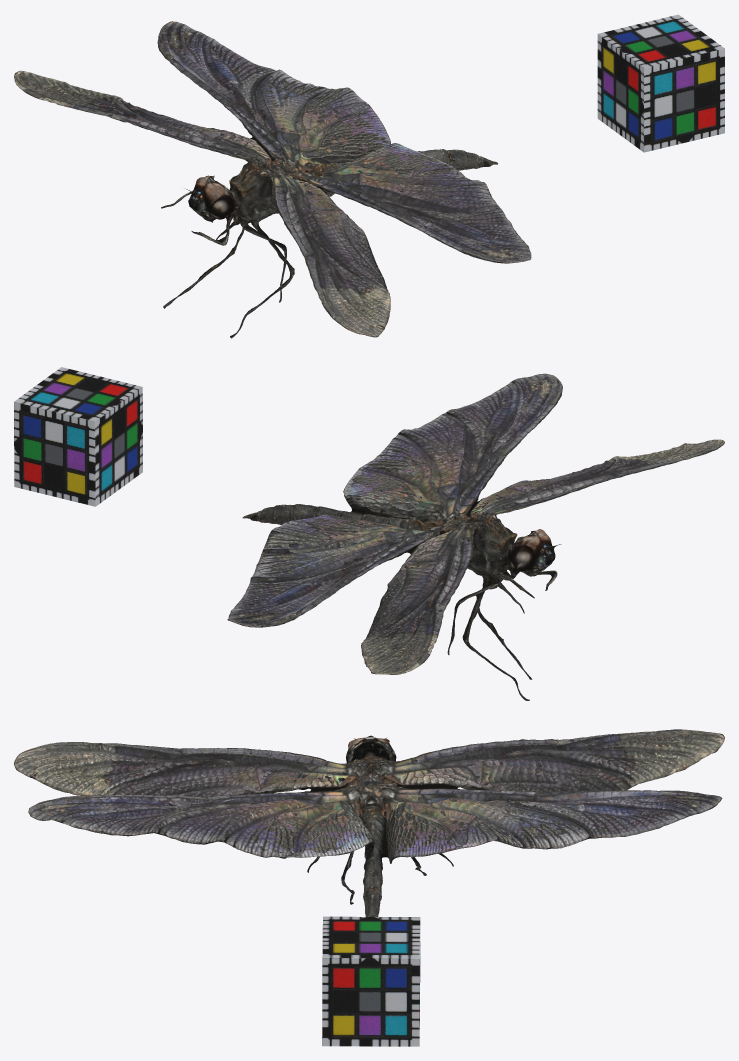
Rendered from mq_libelula_7.glb.
3 renders of one model, top to bottom at view 1: azimuth 30°, elevation 25°; view 2: azimuth 150°, elevation 25°; view 3: azimuth 270°, elevation 25°, orthographic. The views are drawn at different scales.
Visible parts, largest first — view 1: QS1302-W07-1all-1_5, Cube_2; view 2: QS1302-W07-1all-1_5, Cube_2; view 3: QS1302-W07-1all-1_5, Cube_2.
Part boxes in pixels (box(x1,y1,x2,y2)): QS1302-W07-1all-1_5: box(14, 21, 531, 338); Cube_2: box(597, 14, 724, 152); QS1302-W07-1all-1_5: box(227, 373, 724, 700); Cube_2: box(14, 367, 142, 506); QS1302-W07-1all-1_5: box(14, 729, 724, 916); Cube_2: box(322, 916, 420, 1046).
Bounding box in the file's own units: 5.55 × 1.83 × 6.17.
Materials: 2 (2 with a texture image).
